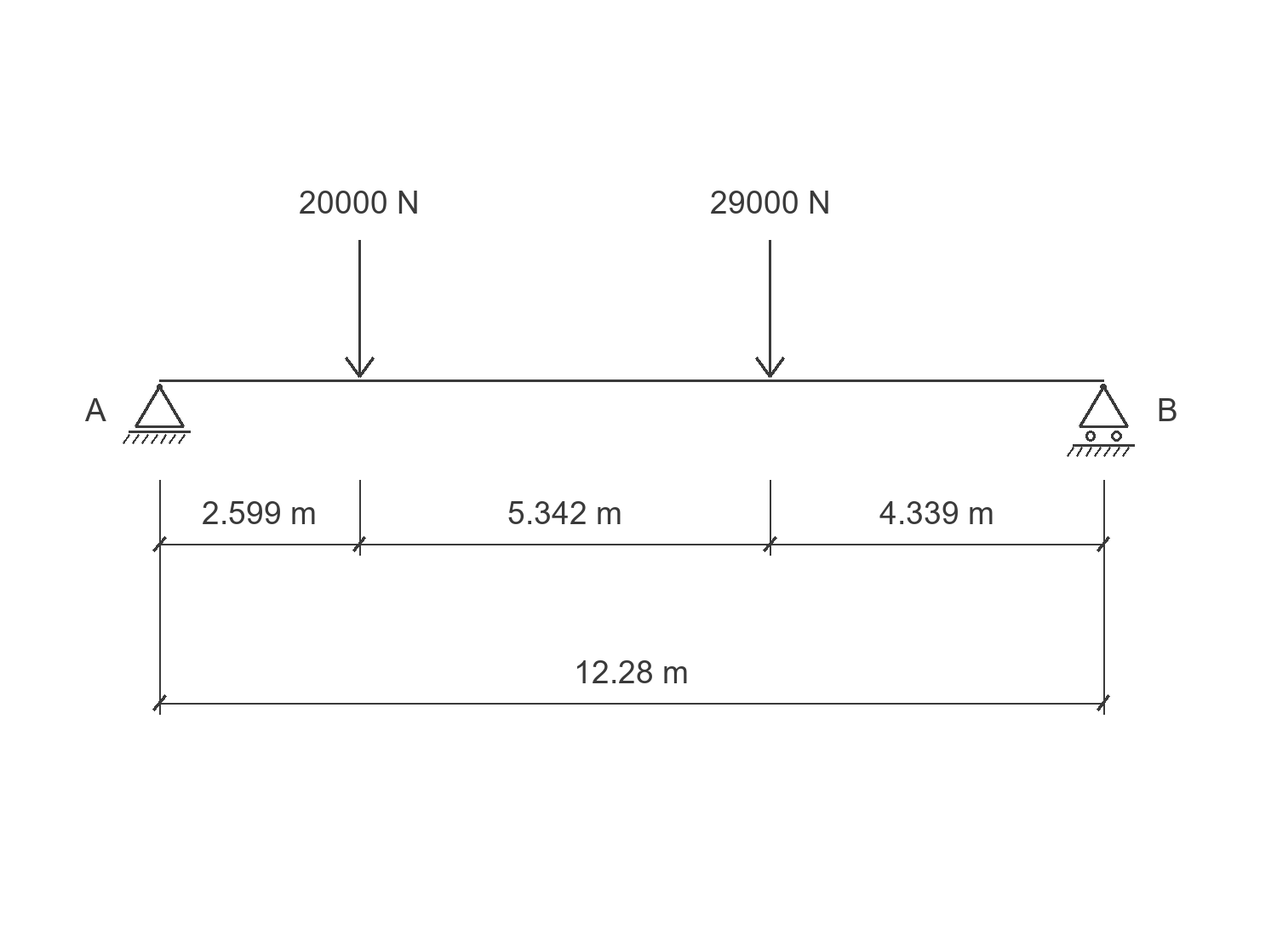pin_support: (123, 384, 191, 444)
point_load: (345, 240, 375, 378), (755, 240, 785, 378)
roller_support: (1067, 384, 1135, 457)
